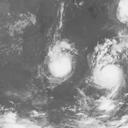cyclone: (90, 54, 123, 92), (44, 43, 75, 82)
